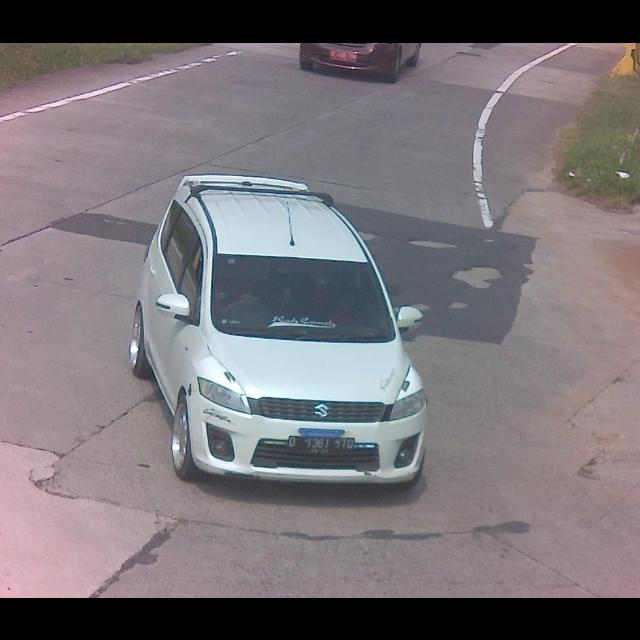plate: (286, 430, 359, 458)
